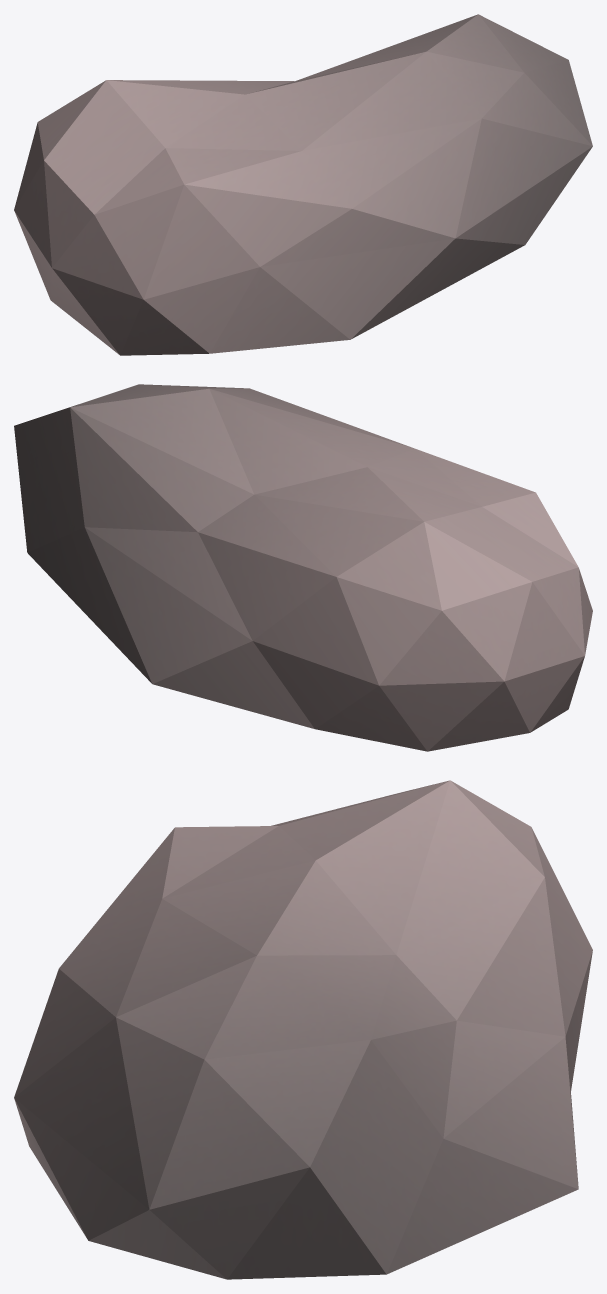
File: SM_Rock07_Var1.fbx
The picture shows the model from 3 angles, top to bottom: view 1: azimuth 30°, elevation 25°; view 2: azimuth 150°, elevation 25°; view 3: azimuth 270°, elevation 25°; orthographic projection. The views are drawn at different scales.
Parts seen in each view (by area): view 1: MediumRock01; view 2: MediumRock01; view 3: MediumRock01.
Part boxes in pixels (x1,y1,x2,y2): MediumRock01: (14,14,592,355); MediumRock01: (14,384,592,751); MediumRock01: (14,780,592,1279).
Size of the model in its own units: 345 by 141 by 218.
